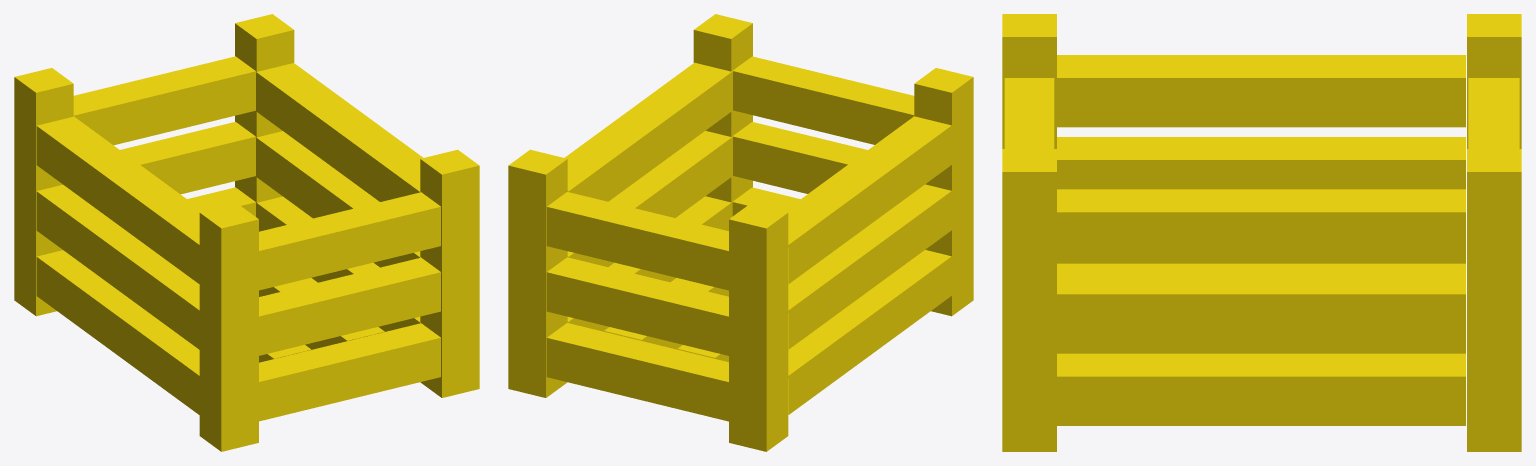
File: wooden_basket_2.FBX
3 views of the same model, side by side, from view 1: azimuth 30°, elevation 25°; view 2: azimuth 150°, elevation 25°; view 3: azimuth 270°, elevation 25° (orthographic). The views are drawn at different scales.
Visible parts, largest first — view 1: wooden_basket_2; view 2: wooden_basket_2; view 3: wooden_basket_2.
Boxes of the visible parts, <box> form: wooden_basket_2: <box>14,14,479,451</box>; wooden_basket_2: <box>508,14,973,451</box>; wooden_basket_2: <box>1002,14,1521,451</box>.
Bounding box in the file's own units: 0.562 × 0.4649 × 0.7807.
1 material, 1 textured.
